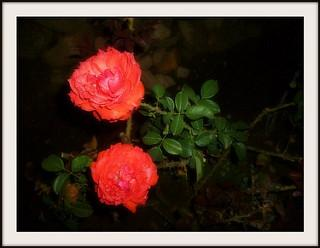rose: (69, 47, 149, 126), (88, 142, 163, 216)
